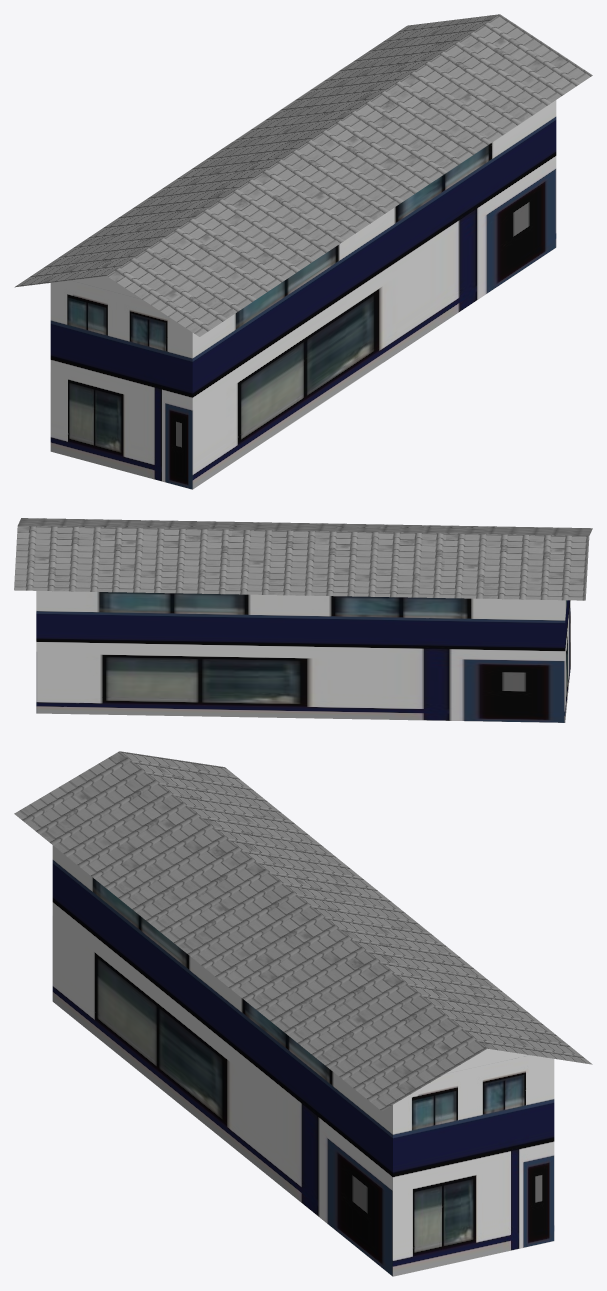
3 renders of one model, top to bottom at view 1: azimuth 30°, elevation 25°; view 2: azimuth 150°, elevation 25°; view 3: azimuth 270°, elevation 25°, orthographic. The views are drawn at different scales.
Parts seen in each view (by area): view 1: CityEngineMaterial_2_m, CityEngineMaterial_4_m; view 2: CityEngineMaterial_2_m, CityEngineMaterial_4_m; view 3: CityEngineMaterial_2_m, CityEngineMaterial_4_m, CityEngineMaterial_3_m.
Boxes of the visible parts, x1,y1,x2,y2 form: CityEngineMaterial_2_m: (50, 100, 556, 489); CityEngineMaterial_4_m: (14, 14, 592, 336); CityEngineMaterial_2_m: (36, 591, 570, 722); CityEngineMaterial_4_m: (14, 518, 592, 600); CityEngineMaterial_2_m: (52, 845, 554, 1276); CityEngineMaterial_4_m: (14, 751, 592, 1110); CityEngineMaterial_3_m: (445, 1048, 529, 1073).
Bounding box in the file's own units: 27.35 × 8.2 × 19.44.
